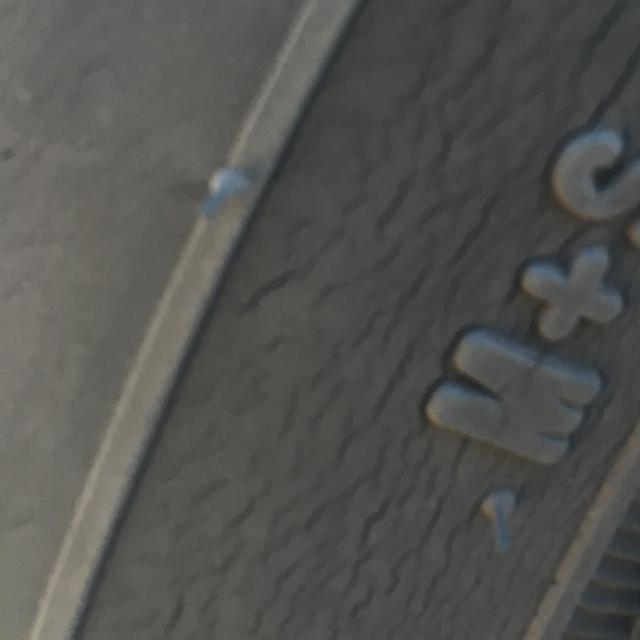Cracks: (93, 0, 640, 640)
